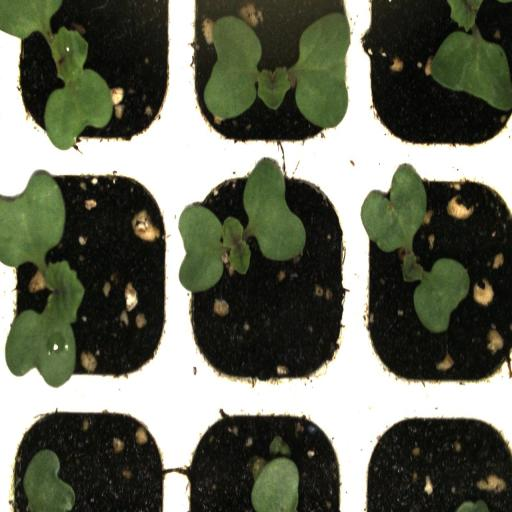Folha: (361, 164, 427, 253), (402, 255, 470, 333), (251, 437, 300, 512)
Germinacao: (0, 156, 178, 397), (179, 159, 352, 400), (355, 155, 512, 401), (181, 0, 357, 154), (10, 0, 178, 154)
